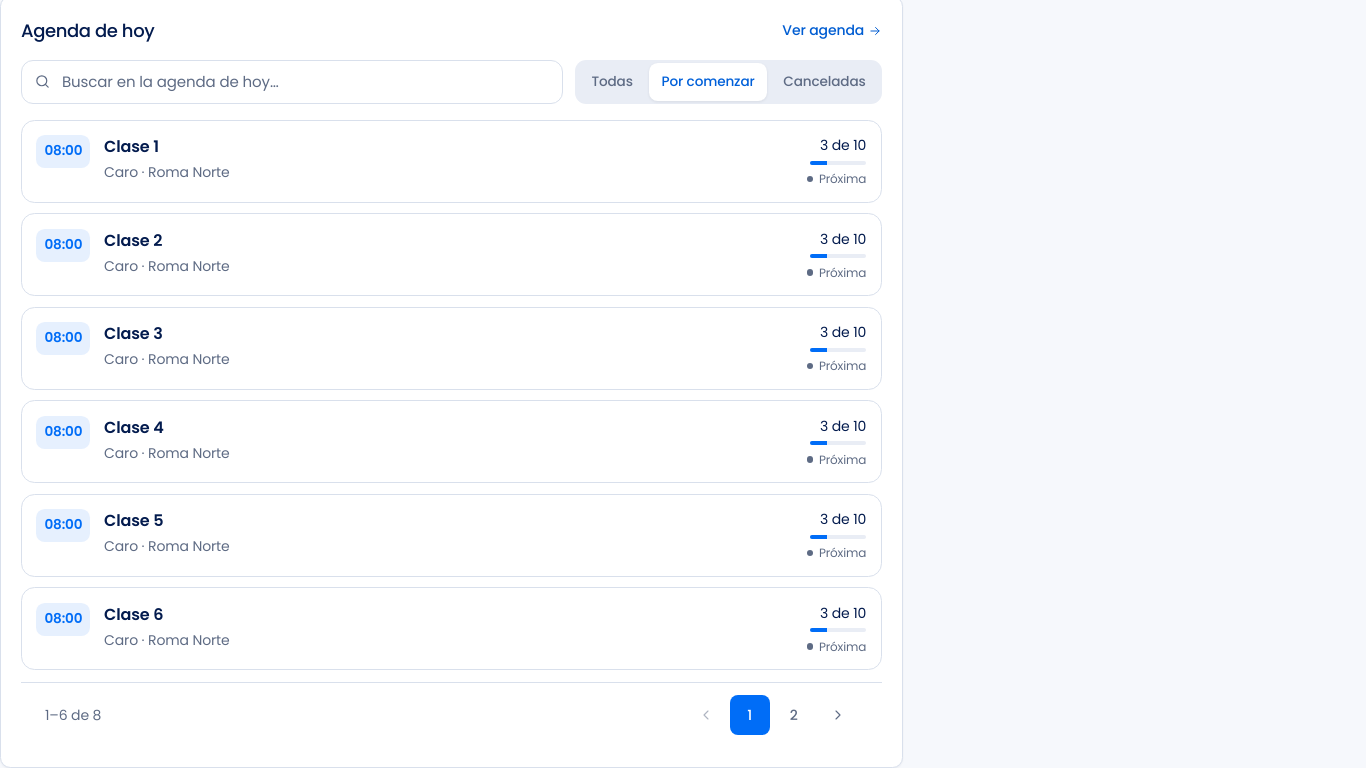
Scenario: el día de hoy en el Inicio › pagina la agenda del inicio sin omitir sesiones y vuelve al inicio al buscar
(page scrolled)
Expected: the number of list items is 6, [21,120,882,203]; [21,213,882,296]; [21,307,882,390]; [21,400,882,483]; [21,494,882,577]; [21,587,882,670]
Click the button "2" at [794, 715], box [774,695,814,735]
(page scrolled)
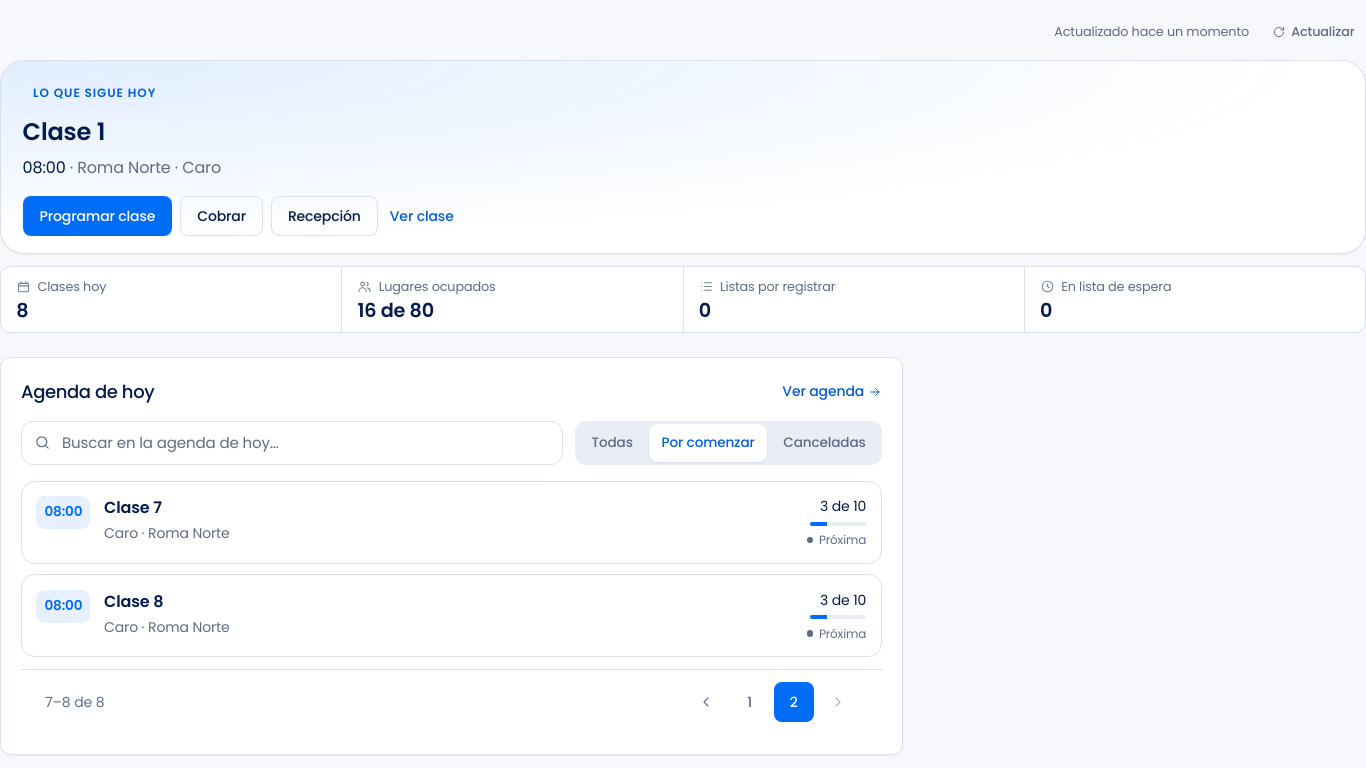
Now the number of list items is 2, box [21,481,882,564]; [21,574,882,657]
Now the list with class "hoy-agenda-lista" shows "Clase 8", box [104,590,163,613]
Type "Clase 1" into the search field with placeholder "Buscar en la agenda de hoy…" at [292, 443], box [21,421,563,465]
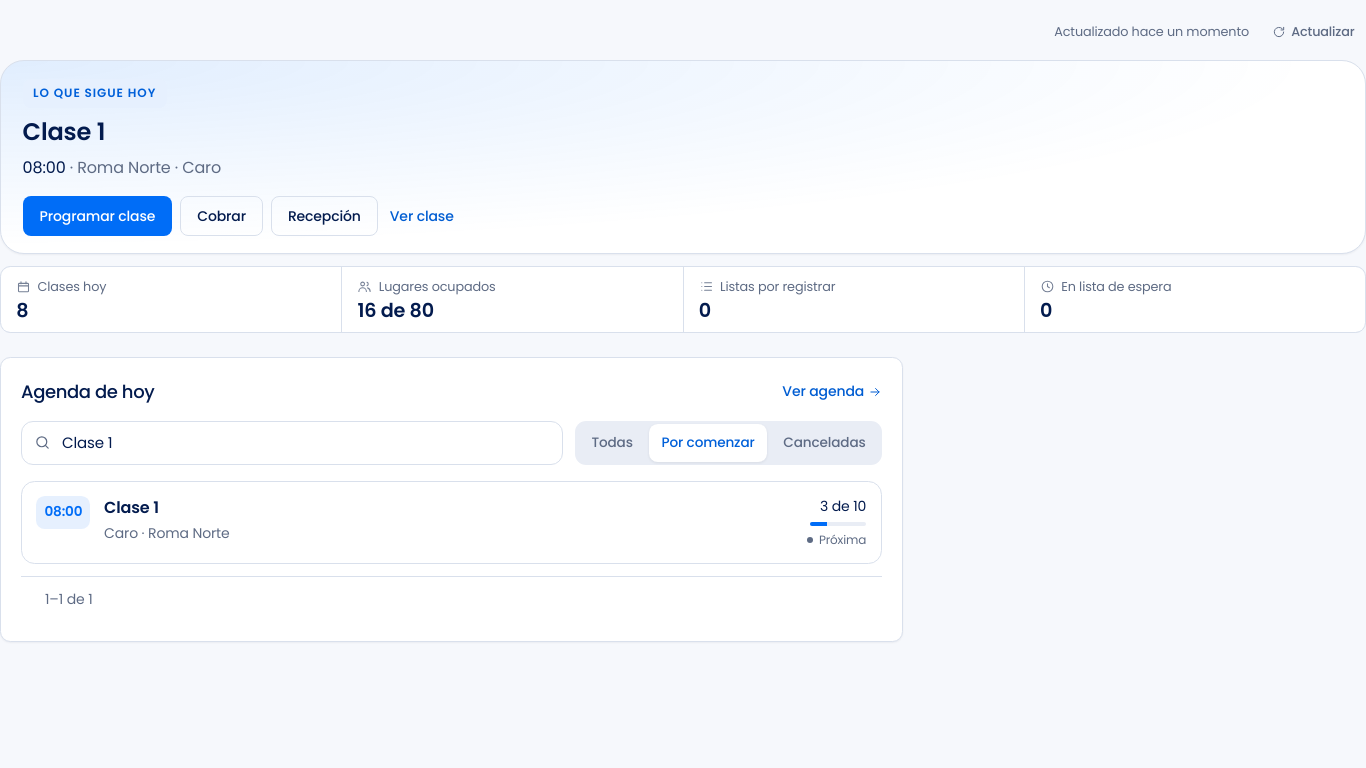
Now the number of list items is 1, box [21,481,882,564]
Now the list with class "hoy-agenda-lista" shows "Clase 1", box [104,496,159,519]
